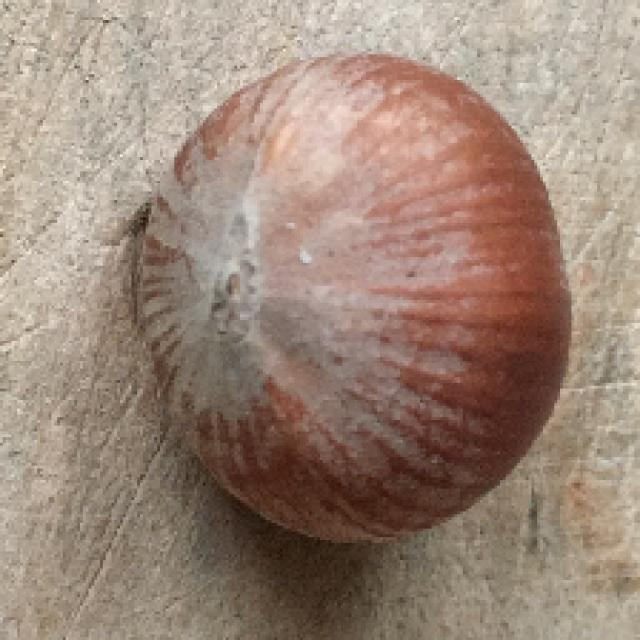qualityHazelnut: (128, 53, 576, 554)
